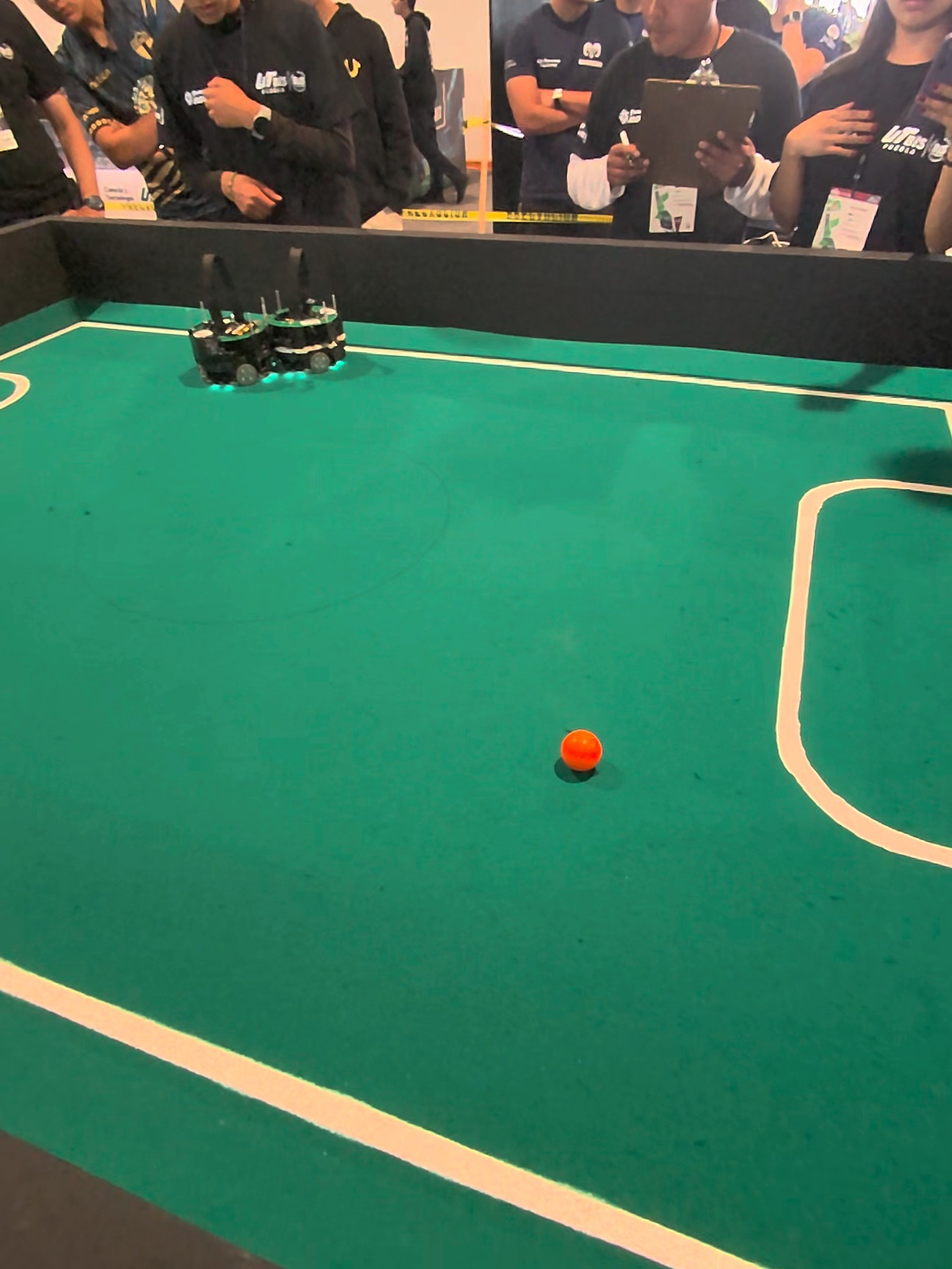Robot: (255, 241, 348, 404), (191, 234, 264, 404)
pelota: (558, 732, 604, 783)
